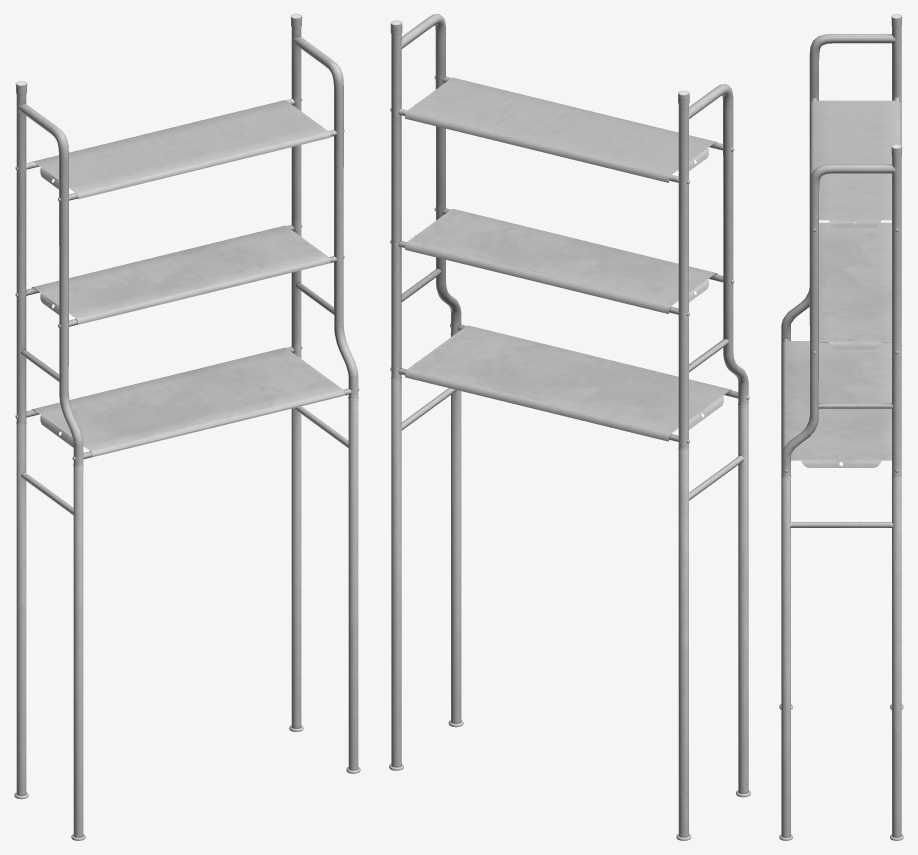
Rendered from shelf.glb.
3 renders of one model, left to right at view 1: azimuth 30°, elevation 25°; view 2: azimuth 150°, elevation 25°; view 3: azimuth 270°, elevation 25°, orthographic. The views are drawn at different scales.
Parts seen in each view (by area): view 1: LP; view 2: LP; view 3: LP.
Boxes of the visible parts, x1=… form: LP: x1=14, y1=14, x2=360, y2=840; LP: x1=389, y1=14, x2=750, y2=840; LP: x1=779, y1=14, x2=903, y2=840.
Size of the model in its own units: 0.9346 by 2.21 by 0.3614.
Materials: 1 (1 with a texture image).
